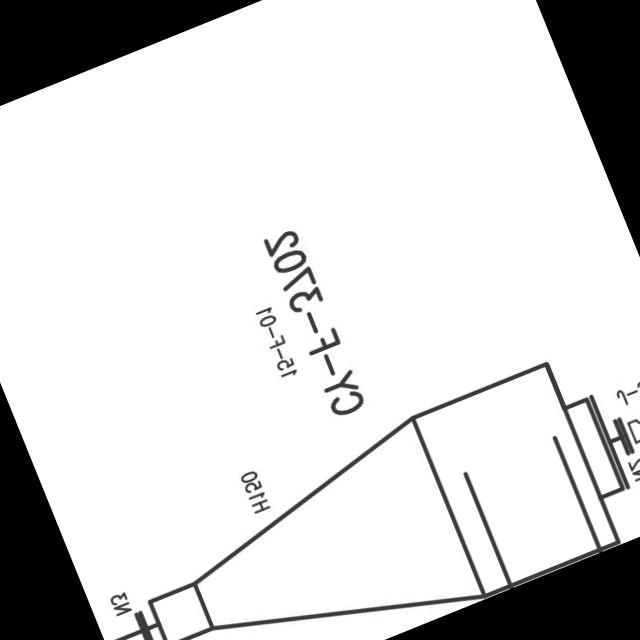CY: (118, 339, 640, 640)
EJ: (616, 377, 640, 460)
